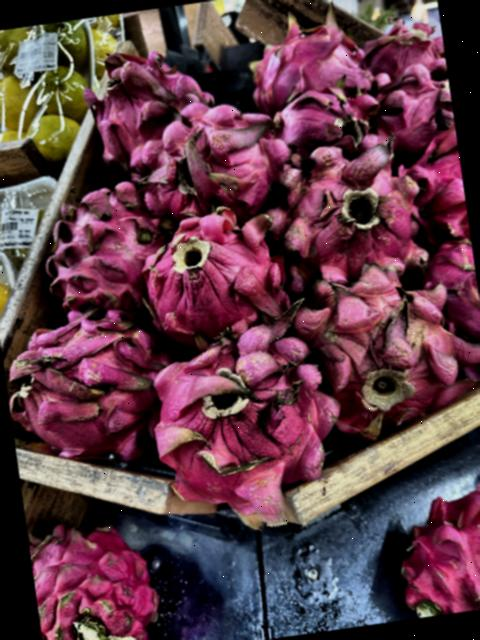buah-naga-matang: (142, 306, 344, 524), (301, 255, 480, 429), (1, 295, 171, 465), (265, 128, 442, 288), (132, 201, 292, 344), (130, 83, 290, 226), (39, 168, 168, 322), (27, 509, 167, 640), (71, 34, 202, 156), (240, 8, 376, 108), (388, 477, 480, 620), (266, 77, 382, 172), (402, 124, 470, 241), (353, 0, 446, 79), (377, 64, 458, 154), (425, 235, 480, 341)
